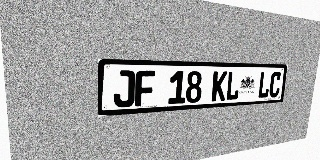1: (168, 71, 187, 104)
8: (185, 71, 203, 103)
C: (268, 72, 282, 98)
F: (135, 70, 155, 106)
J: (114, 70, 135, 108)
K: (211, 71, 228, 101)
L: (225, 71, 241, 101), (257, 72, 271, 98)
